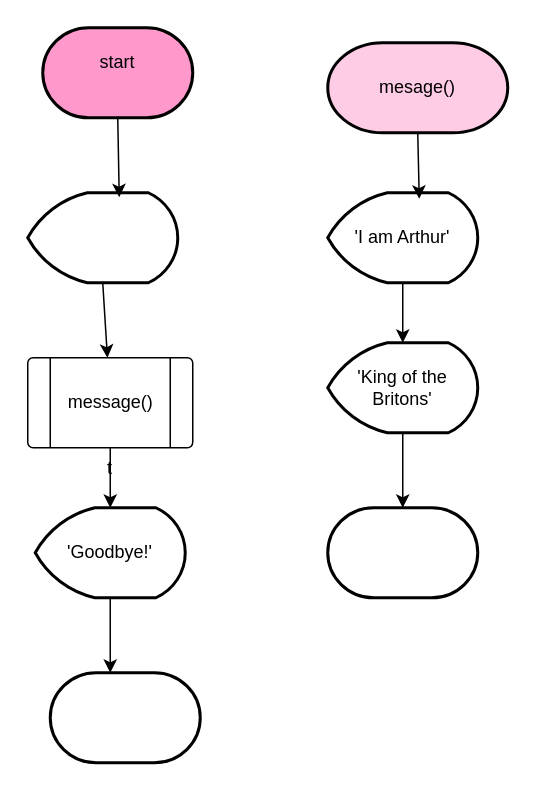
The diagram is 534 pixels wide and 789 high, and some of its shapes have lost their labels. The shapes that lost their labels are listed below. From the top down, each one's box as (x1, y1, x2, y2) in pixels, then its label:
(26, 190, 178, 284): "I have a message for you"
(326, 506, 478, 598): Ruturn
(48, 670, 201, 764): stop
